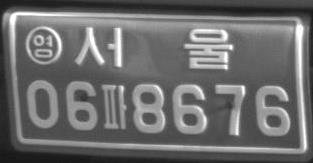0: (26, 79, 59, 129)
6: (170, 83, 208, 135), (254, 84, 290, 137), (65, 80, 98, 131)
7: (215, 83, 245, 136)
8: (132, 82, 165, 134)
서울_D: (73, 26, 233, 70)
영: (25, 25, 62, 66)
파: (101, 84, 127, 131)
